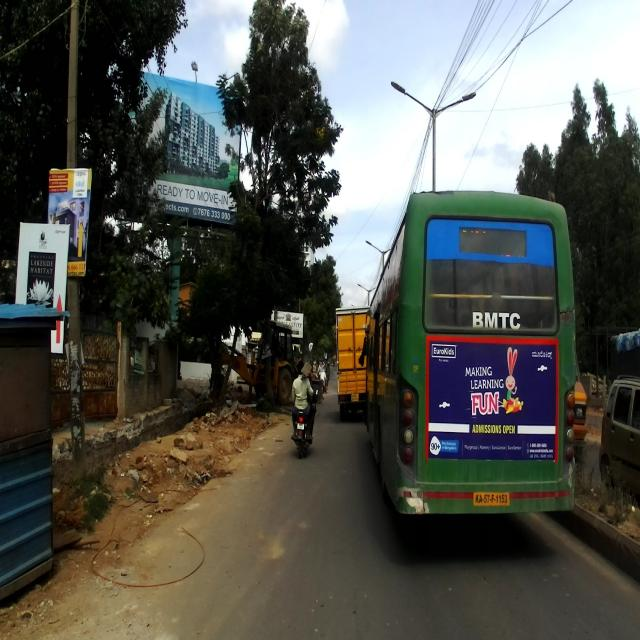bus: (359, 190, 576, 533)
motorcycle_Hero: (292, 386, 314, 456)
